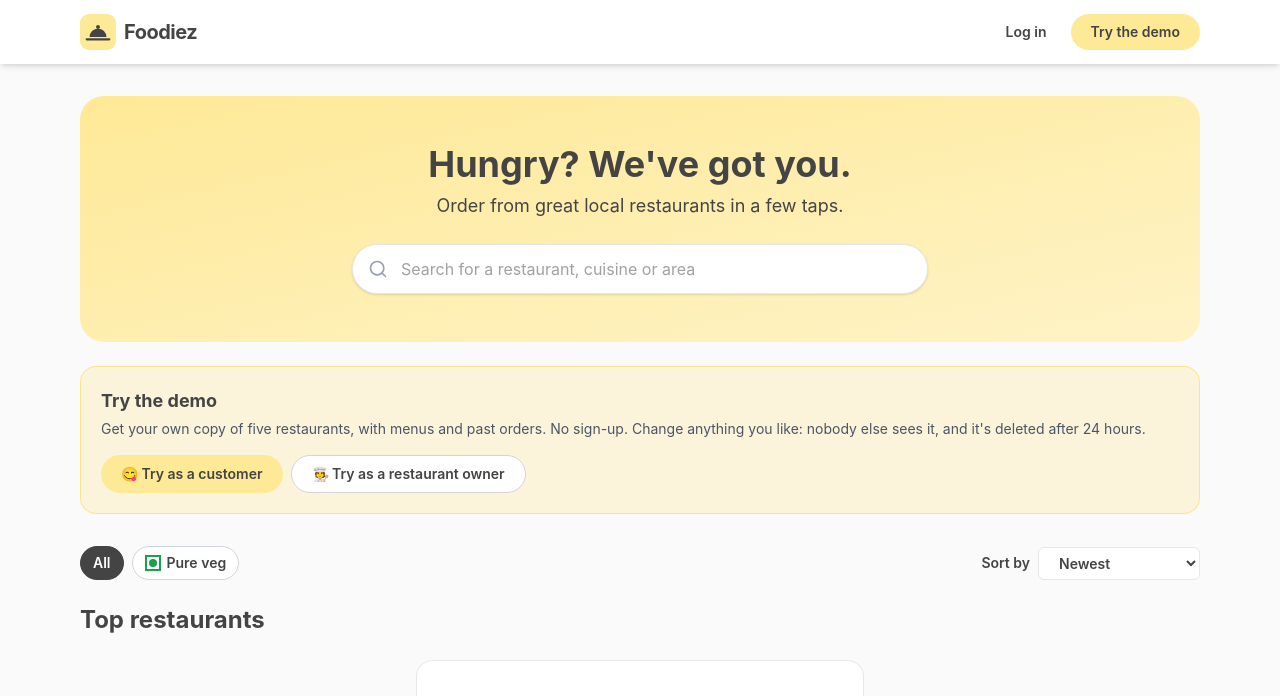
it: try the demo › shows the API's message when the demo is busy
The width and height of the screenshot is (1280, 696).
Click the button "😋 Try as a customer": {"x": 192, "y": 474} x1=101 y1=455 x2=282 y2=493
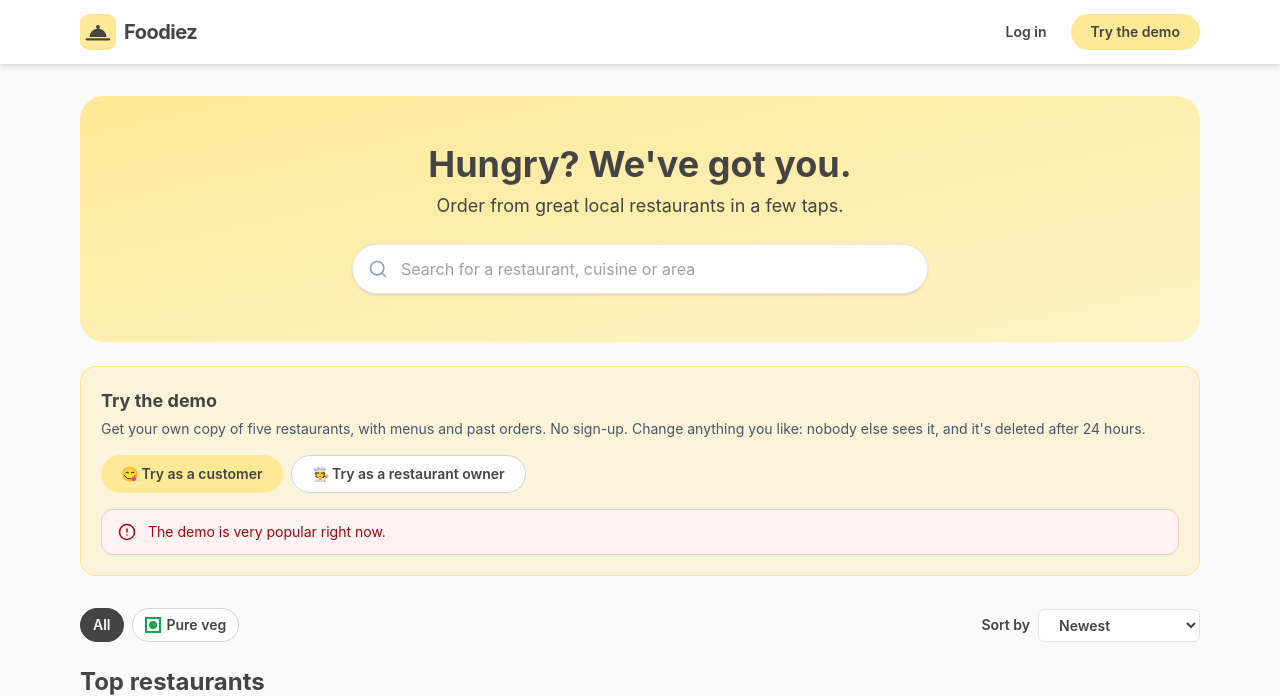
Expected: the message reads "The demo is very popular right now.", x1=148 y1=523 x2=386 y2=540
